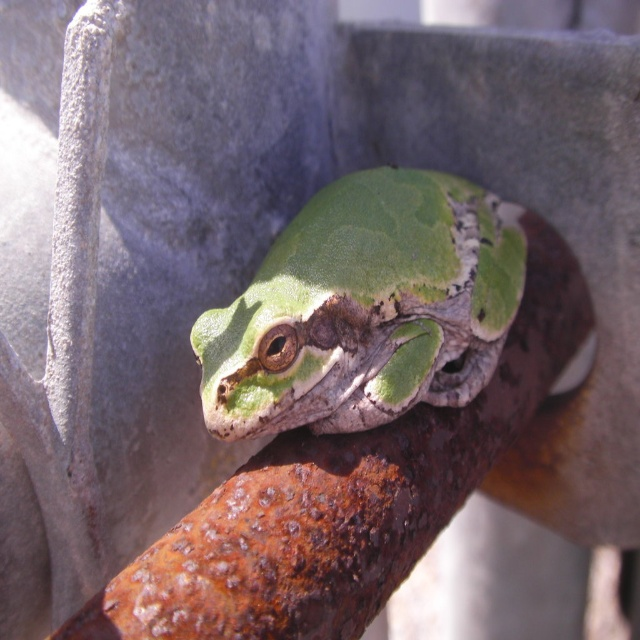Frog: (189, 162, 530, 447)
